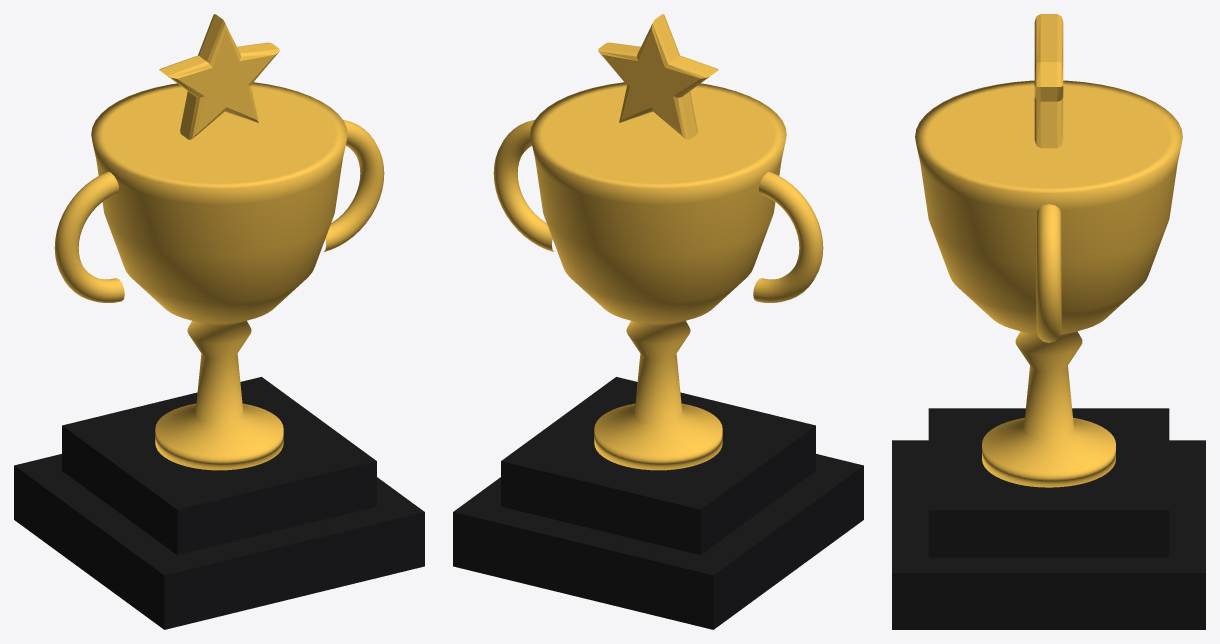
File: trophy-gold.glb
3 views of the same model, side by side, from view 1: azimuth 30°, elevation 25°; view 2: azimuth 150°, elevation 25°; view 3: azimuth 270°, elevation 25° (orthographic). The views are drawn at different scales.
Size of the model in its own units: 0.188 by 0.2897 by 0.15.
